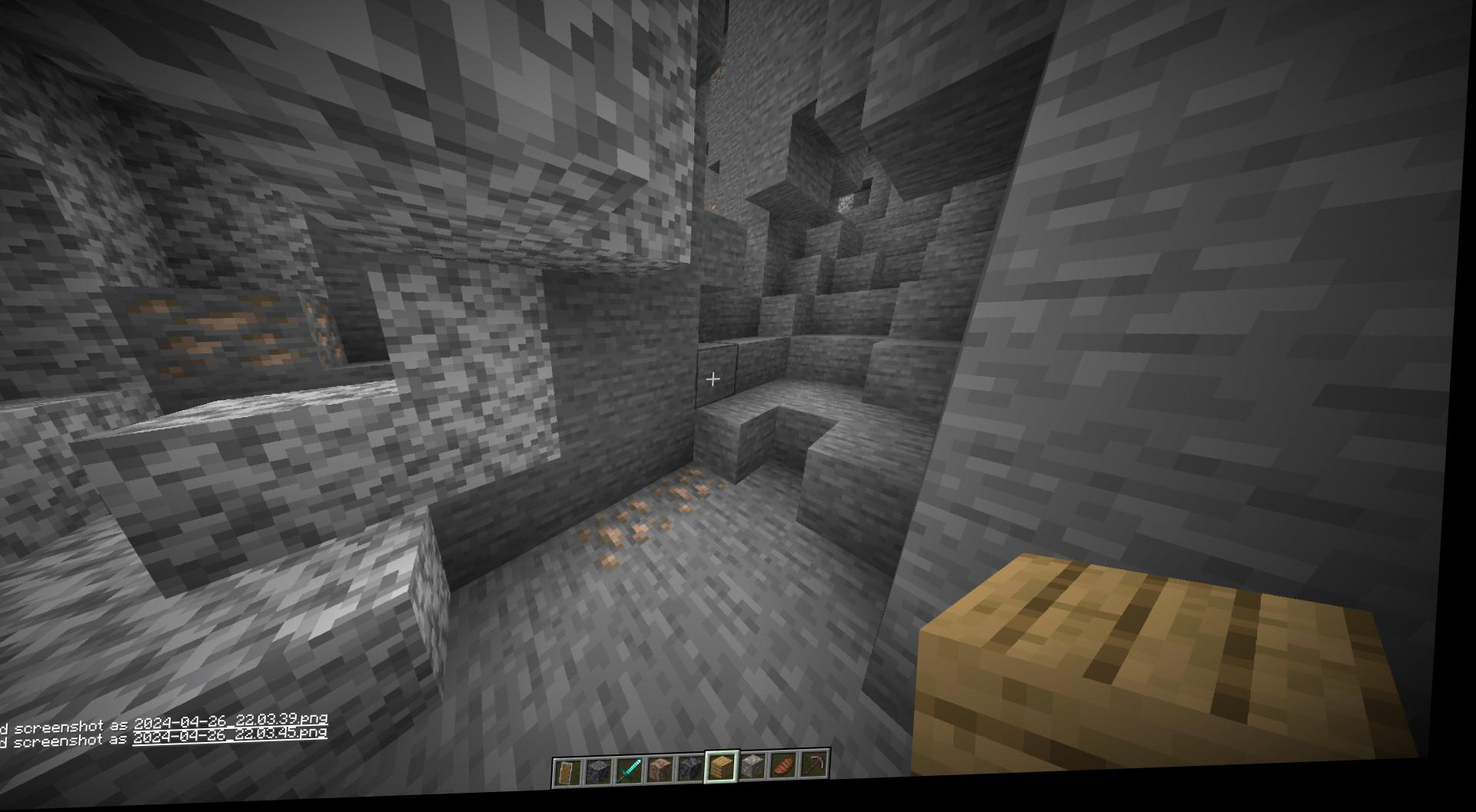iron ore: (128, 283, 341, 386), (590, 497, 681, 575), (662, 461, 737, 520)
